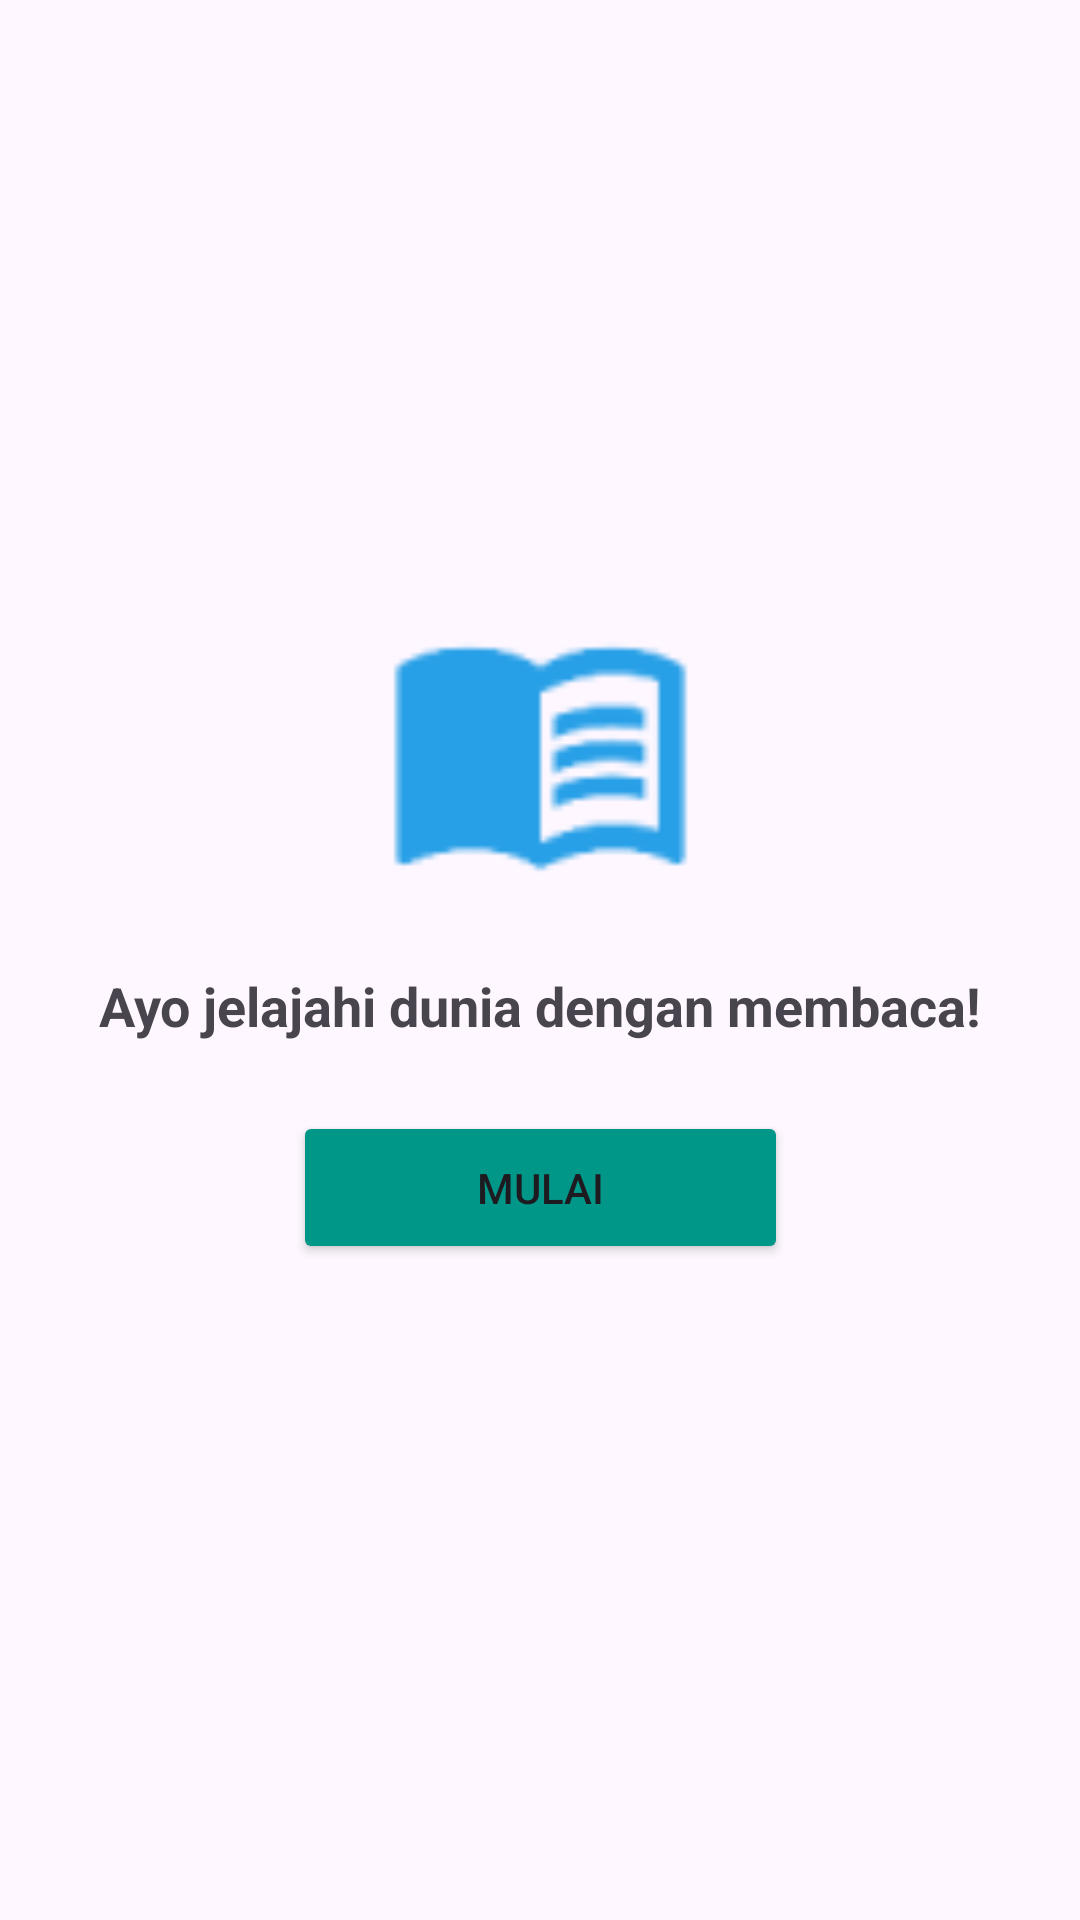

Icons on this 1080 x 1920 Android screen, each with the point to tap as (x=x, y=y):
bookicon: (x=540, y=758)
